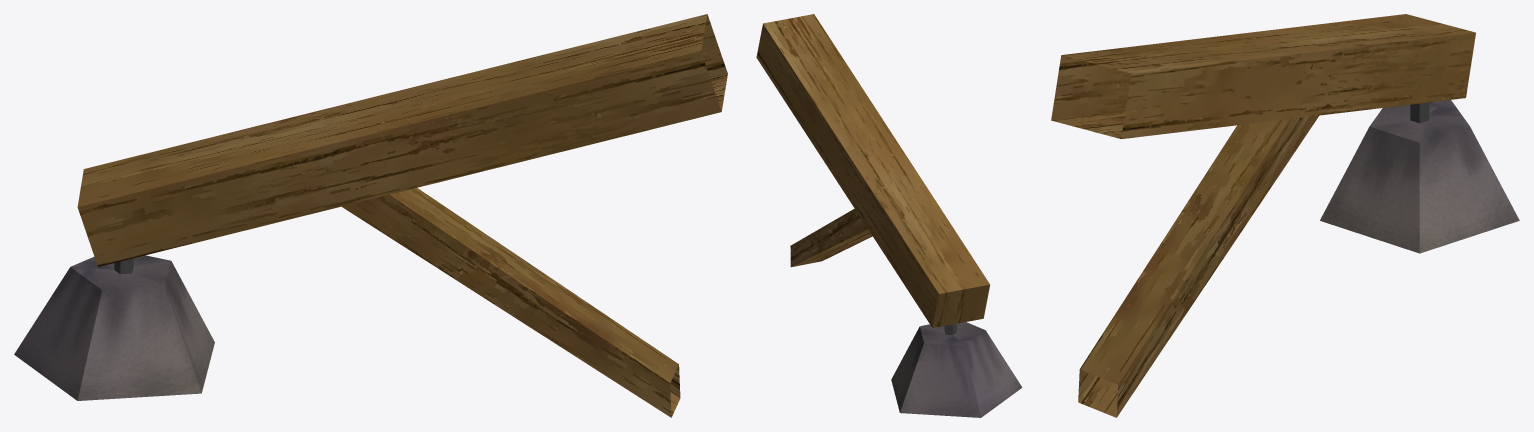
Rendered from Lamp001.FBX.
3 views of the same model, side by side, from view 1: azimuth 30°, elevation 25°; view 2: azimuth 150°, elevation 25°; view 3: azimuth 270°, elevation 25° (orthographic). The views are drawn at different scales.
Visible parts, largest first — view 1: Lamp001; view 2: Lamp001; view 3: Lamp001.
Boxes of the visible parts, <box> form: Lamp001: <box>14,14,727,417</box>; Lamp001: <box>756,14,1022,417</box>; Lamp001: <box>1051,14,1519,417</box>.
Bounding box in the file's own units: 39.01 × 26.11 × 30.75.
